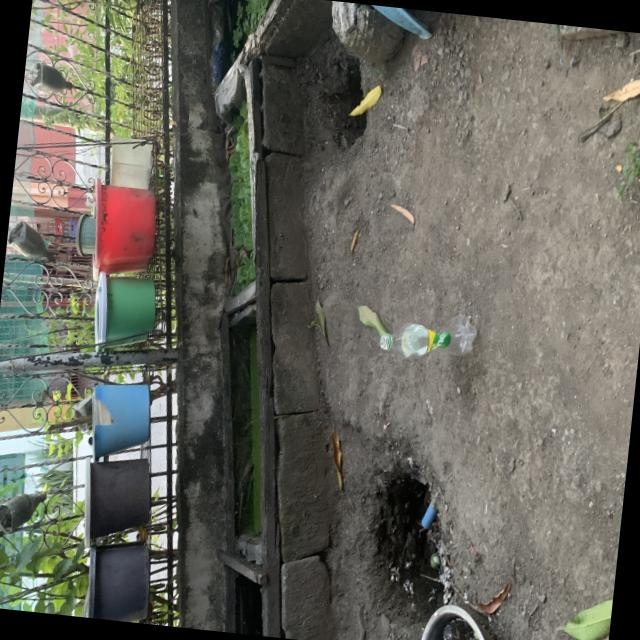Bottle: (379, 315, 477, 358)
